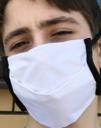with_mask: (2, 2, 101, 128)
